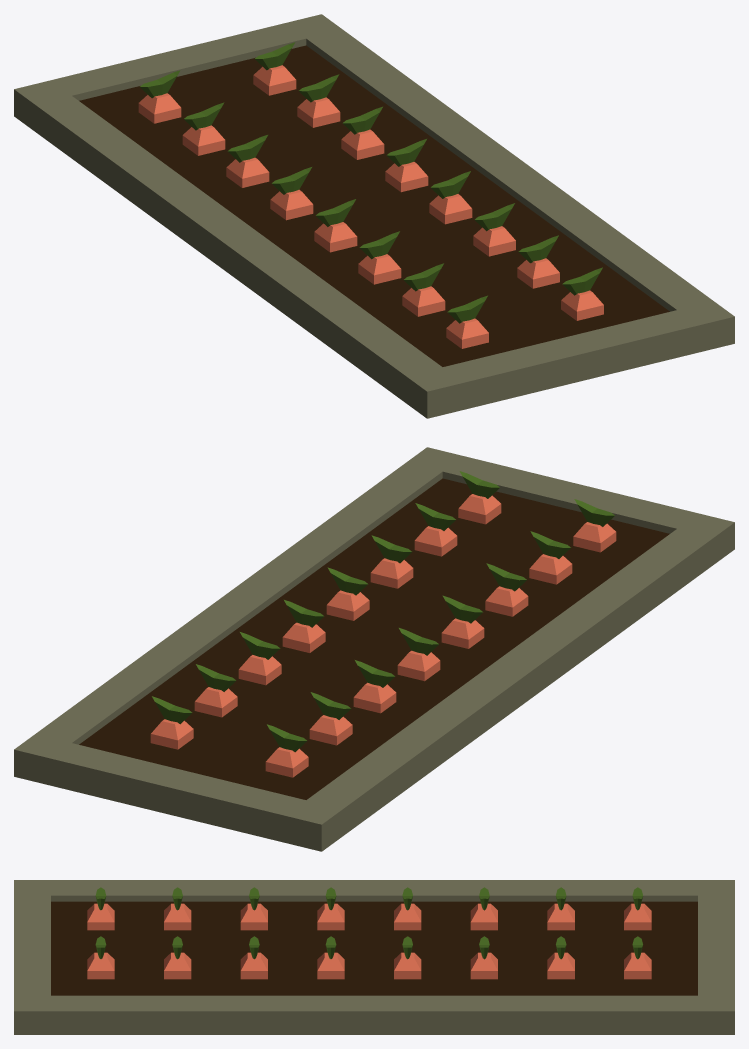
Rendered from CarrotPlanter.fbx.
3 renders of one model, top to bottom at view 1: azimuth 30°, elevation 25°; view 2: azimuth 150°, elevation 25°; view 3: azimuth 270°, elevation 25°, orthographic. The views are drawn at different scales.
Visible parts, largest first — view 1: Planter, Carrots; view 2: Planter, Carrots; view 3: Planter, Carrots.
Part boxes in pixels (<box>): Planter: <box>14,14,734,418</box>; Carrots: <box>138,42,603,348</box>; Planter: <box>14,447,734,851</box>; Carrots: <box>150,471,616,777</box>; Planter: <box>14,880,734,1034</box>; Carrots: <box>87,887,651,979</box>.
Size of the model in its own units: 588 by 120 by 1368.
